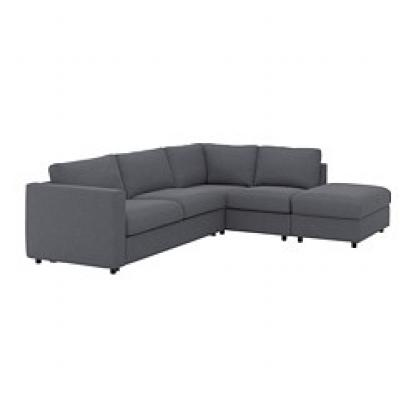Sofa: (17, 125, 394, 278)
